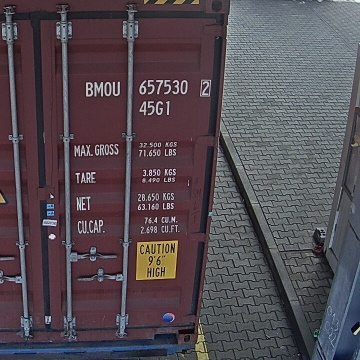serial_id: (85, 80, 209, 96)
